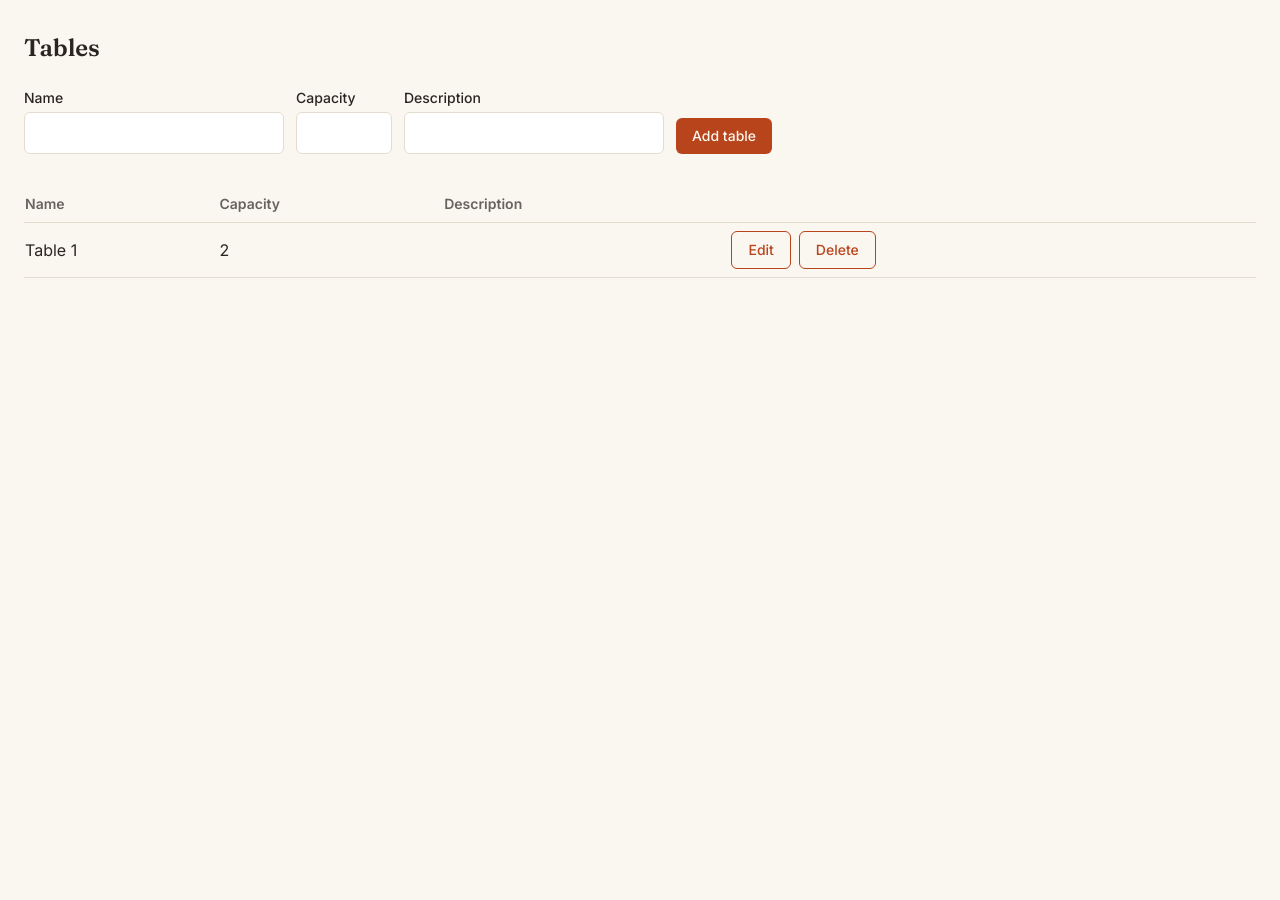
Scenario: AdminTables › shows the conflict error when deleting a table with future bookings
The image size is (1280, 900).
Click the button "Delete": (837, 250) [799, 231, 876, 269]
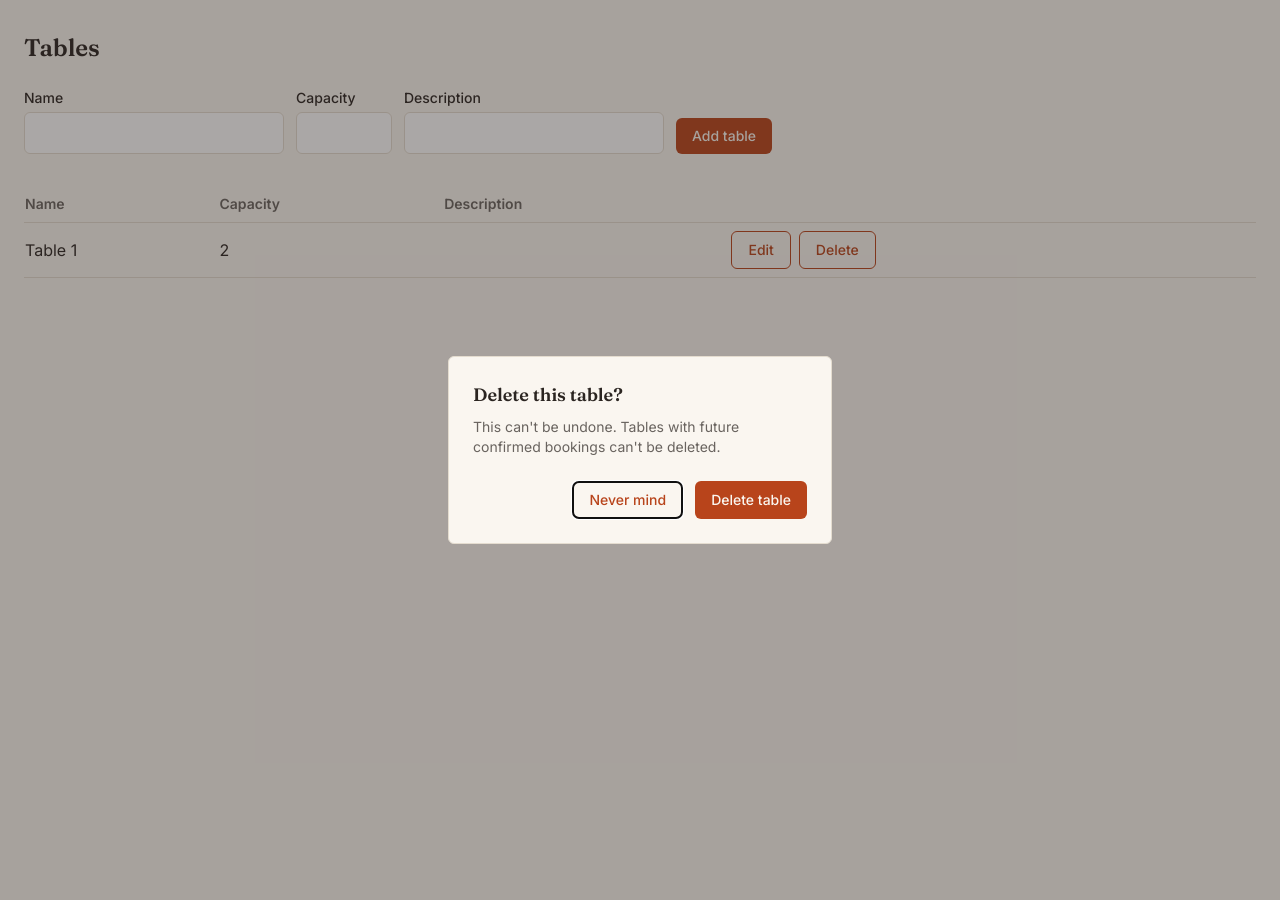
Click the button "Delete table": (751, 500) [695, 481, 807, 519]
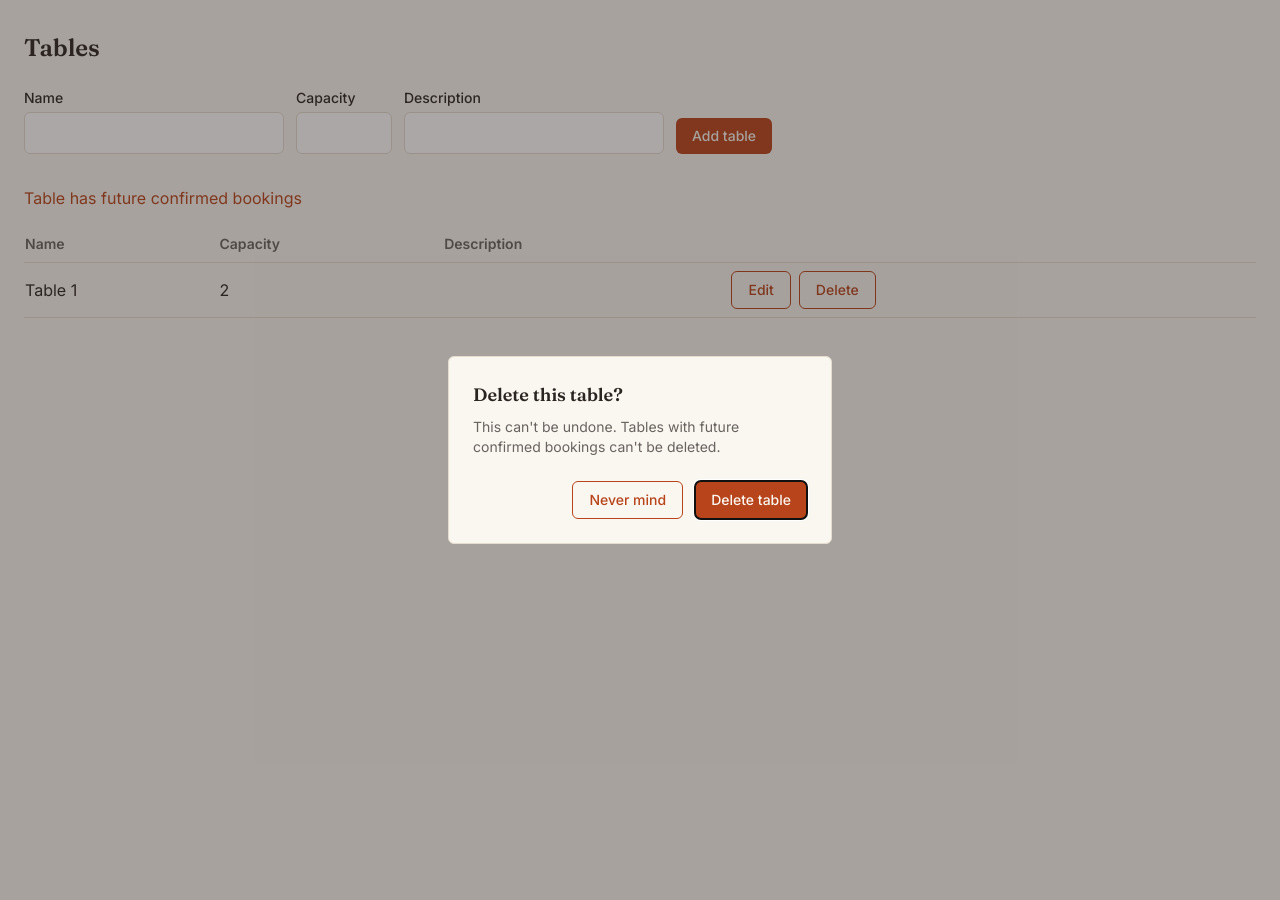
Expected: the text "Table has future confirmed bookings" is shown, [24, 188, 302, 208]
